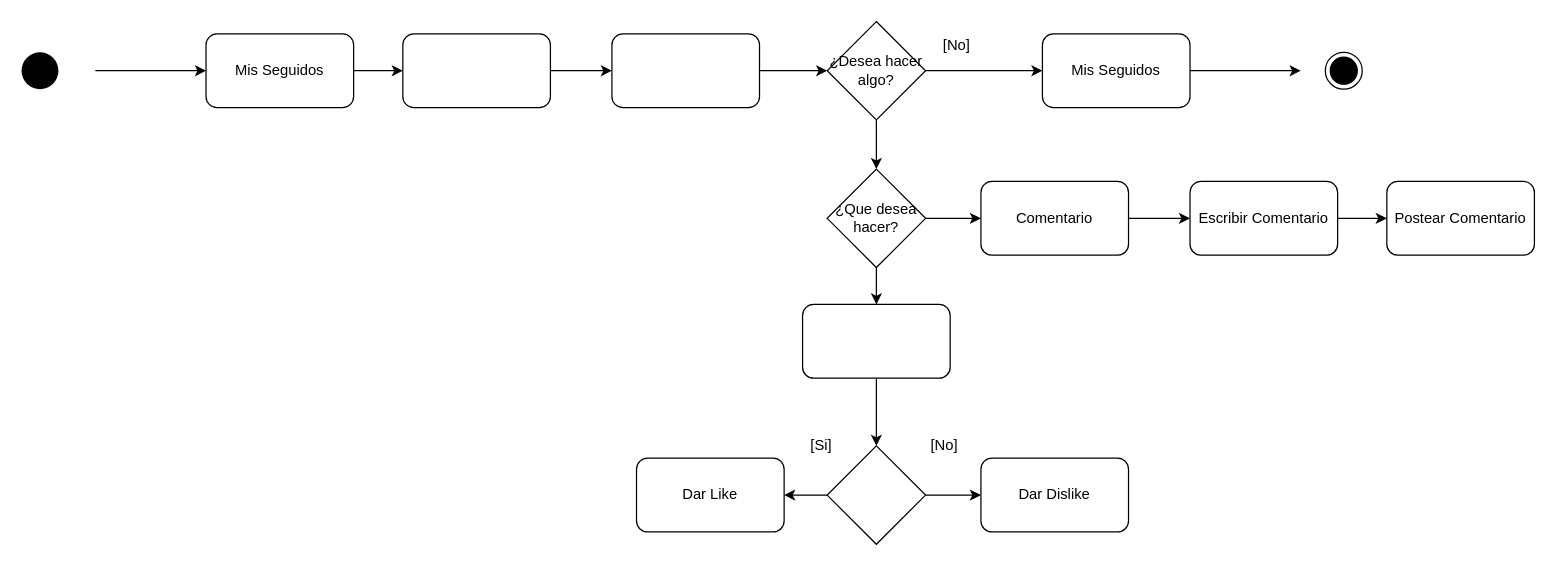
Image size: 1556x566. Some labels were removed from this diagram. The centre of each missing label's shape, as x and y in pixels:
"Elegir Top" goes at point (476, 70).
"Puntuar" goes at point (875, 340).
"Ver Top" goes at point (685, 70).
"¿Te gusto?" goes at point (876, 494).
